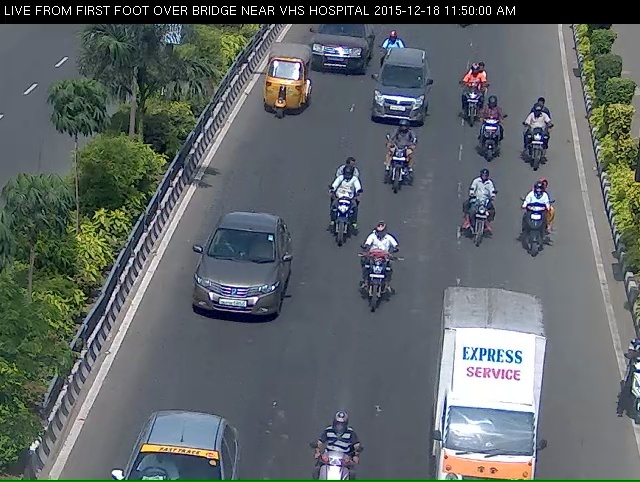Auto: (440, 314, 543, 476), (261, 48, 306, 128)
Car: (186, 221, 284, 343), (380, 56, 424, 130), (308, 21, 367, 76)
Person: (519, 183, 553, 260), (360, 239, 390, 324), (325, 175, 354, 259), (465, 183, 494, 252), (385, 136, 412, 202), (524, 113, 550, 177), (481, 103, 507, 167), (375, 33, 399, 77), (459, 72, 477, 128)
